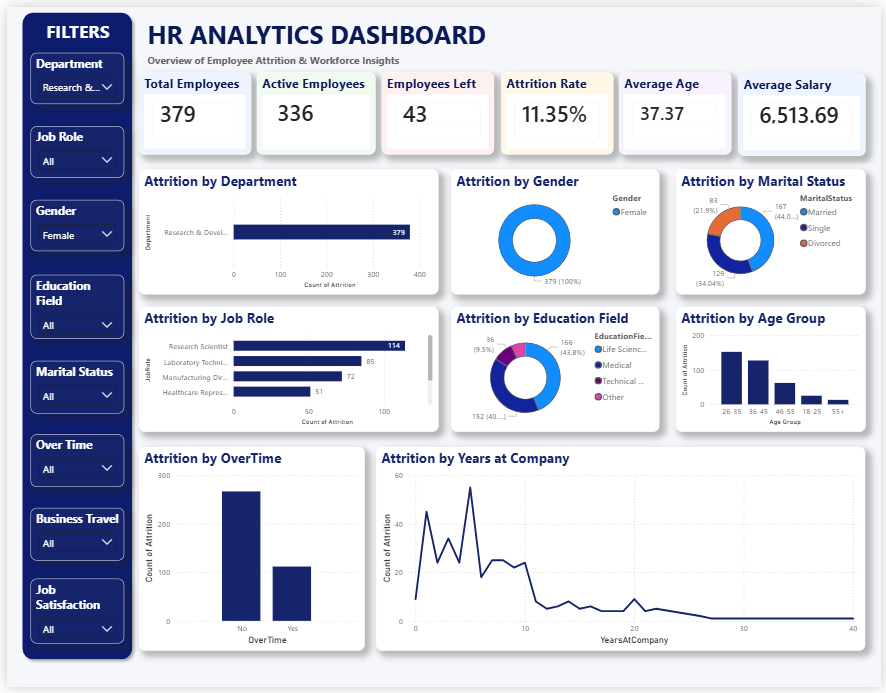

What the dashboard file says about the page in this screenshot:
{"tool":"powerbi","page":{"name":"Page 1","canvas":[1400,1090],"ordinal":0},"visuals":[{"type":"shape","box":[16,0,194,1054],"z":0},{"type":"textbox","title":"HR ANALYTICS DASHBOARD","box":[220,15,600,85],"z":1000},{"type":"cardVisual","title":"Total Employees","fields":{"Data":["Employee.Total Employees"]},"box":[210,105,180,132],"z":2000},{"type":"cardVisual","title":"Active Employees","fields":{"Data":["Employee.Active Employees"]},"box":[400,105,190,132],"z":3000},{"type":"cardVisual","title":"Employees Left","fields":{"Data":["Employee.Employees Left"]},"box":[600,105,180,132],"z":4000},{"type":"cardVisual","title":"Attrition Rate","fields":{"Data":["Employee.Attrition Rate"]},"box":[790,105,180,132],"z":5000},{"type":"cardVisual","title":"Average Age","fields":{"Data":["Employee.Average Age"]},"box":[980,105,180,132],"z":6000},{"type":"cardVisual","title":"Average Salary","fields":{"Data":["Employee.Average Salary"]},"box":[1170,106,204,132],"z":7000},{"type":"clusteredBarChart","title":"Attrition by Department","fields":{"Category":["Employee.Department"],"Y":["CountNonNull(Employee.Attrition)"]},"box":[210,260,480,200],"z":7001},{"type":"donutChart","title":"Attrition by Gender","fields":{"Y":["CountNonNull(Employee.Attrition)"],"Category":["Employee.Gender"]},"box":[710,260,334,200],"z":7002},{"type":"donutChart","title":"Attrition by Marital Status","fields":{"Y":["CountNonNull(Employee.Attrition)"],"Category":["Employee.MaritalStatus"]},"box":[1070,260,304,200],"z":7003},{"type":"clusteredBarChart","title":"Attrition by Job Role","fields":{"Y":["CountNonNull(Employee.Attrition)"],"Category":["Employee.JobRole"]},"box":[210,480,480,200],"z":7004},{"type":"donutChart","title":"Attrition by Education Field","fields":{"Y":["CountNonNull(Employee.Attrition)"],"Category":["Employee.EducationField"]},"box":[712,480,334,200],"z":7005},{"type":"clusteredColumnChart","title":"Attrition by Age Group","fields":{"Category":["Employee.Age Group"],"Y":["CountNonNull(Employee.Attrition)"]},"box":[1070,480,304,200],"z":7006},{"type":"clusteredColumnChart","title":"Attrition by OverTime","fields":{"Y":["CountNonNull(Employee.Attrition)"],"Category":["Employee.OverTime"]},"box":[210,703.3,361.7,326.7],"z":7007},{"type":"lineChart","title":"Attrition by Years at Company","fields":{"Category":["Employee.YearsAtCompany"],"Y":["CountNonNull(Employee.Attrition)"]},"box":[590,703.3,783.3,326.7],"z":7008},{"type":"textbox","title":"FILTERS","box":[48,20,130,38],"z":7009},{"type":"slicer","title":"Department","fields":{"Values":["Employee.Department"]},"box":[38,74,150,82],"z":7010},{"type":"slicer","title":"Job Role","fields":{"Values":["Employee.JobRole"]},"box":[38,190,150,82],"z":7011},{"type":"slicer","title":"Gender","fields":{"Values":["Employee.Gender"]},"box":[38,308,150,82],"z":7012},{"type":"slicer","title":"Education Field","fields":{"Values":["Employee.EducationField"]},"box":[38,428,150,102],"z":7013},{"type":"slicer","title":"Marital Status","fields":{"Values":["Employee.MaritalStatus"]},"box":[38,566,150,84],"z":7014},{"type":"slicer","title":"Over Time","fields":{"Values":["Employee.OverTime"]},"box":[38,684,150,84],"z":7015},{"type":"slicer","title":"Business Travel","fields":{"Values":["Employee.BusinessTravel"]},"box":[38,802,150,84],"z":7016},{"type":"slicer","title":"Job Satisfaction","fields":{"Values":["Employee.JobSatisfaction"]},"box":[38,916,150,104],"z":7017}]}

Visuals, with their boxes in screenshot pixels (x1, y1, x2, y2), scaled from the page's 1400x1090 canvas onto the 886x693 screenshot:
shape: pyautogui.locateOnScreen(10, 0, 133, 670)
"HR ANALYTICS DASHBOARD" textbox: pyautogui.locateOnScreen(139, 10, 519, 64)
"Total Employees" cardVisual: pyautogui.locateOnScreen(133, 67, 247, 151)
"Active Employees" cardVisual: pyautogui.locateOnScreen(253, 67, 373, 151)
"Employees Left" cardVisual: pyautogui.locateOnScreen(380, 67, 494, 151)
"Attrition Rate" cardVisual: pyautogui.locateOnScreen(500, 67, 614, 151)
"Average Age" cardVisual: pyautogui.locateOnScreen(620, 67, 734, 151)
"Average Salary" cardVisual: pyautogui.locateOnScreen(740, 67, 870, 151)
"Attrition by Department" clusteredBarChart: pyautogui.locateOnScreen(133, 165, 437, 292)
"Attrition by Gender" donutChart: pyautogui.locateOnScreen(449, 165, 661, 292)
"Attrition by Marital Status" donutChart: pyautogui.locateOnScreen(677, 165, 870, 292)
"Attrition by Job Role" clusteredBarChart: pyautogui.locateOnScreen(133, 305, 437, 432)
"Attrition by Education Field" donutChart: pyautogui.locateOnScreen(451, 305, 662, 432)
"Attrition by Age Group" clusteredColumnChart: pyautogui.locateOnScreen(677, 305, 870, 432)
"Attrition by OverTime" clusteredColumnChart: pyautogui.locateOnScreen(133, 447, 362, 655)
"Attrition by Years at Company" lineChart: pyautogui.locateOnScreen(373, 447, 869, 655)
"FILTERS" textbox: pyautogui.locateOnScreen(30, 13, 113, 37)
"Department" slicer: pyautogui.locateOnScreen(24, 47, 119, 99)
"Job Role" slicer: pyautogui.locateOnScreen(24, 121, 119, 173)
"Gender" slicer: pyautogui.locateOnScreen(24, 196, 119, 248)
"Education Field" slicer: pyautogui.locateOnScreen(24, 272, 119, 337)
"Marital Status" slicer: pyautogui.locateOnScreen(24, 360, 119, 413)
"Over Time" slicer: pyautogui.locateOnScreen(24, 435, 119, 488)
"Business Travel" slicer: pyautogui.locateOnScreen(24, 510, 119, 563)
"Job Satisfaction" slicer: pyautogui.locateOnScreen(24, 582, 119, 648)
